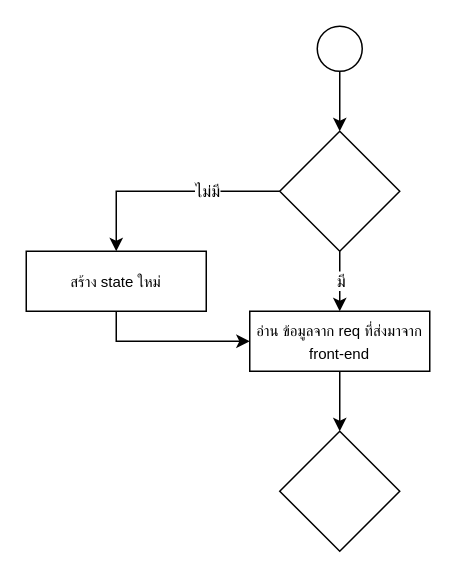
The diagram is 456 pixels wide and 578 high, and some of its shapes have lost their labels. Each missing label, with the box of its shape:
เช็คว่ามี course ไหม: (278, 430, 400, 551)
เช็คว่ามี state ส่งมาด้วยไหม: (278, 130, 400, 251)
